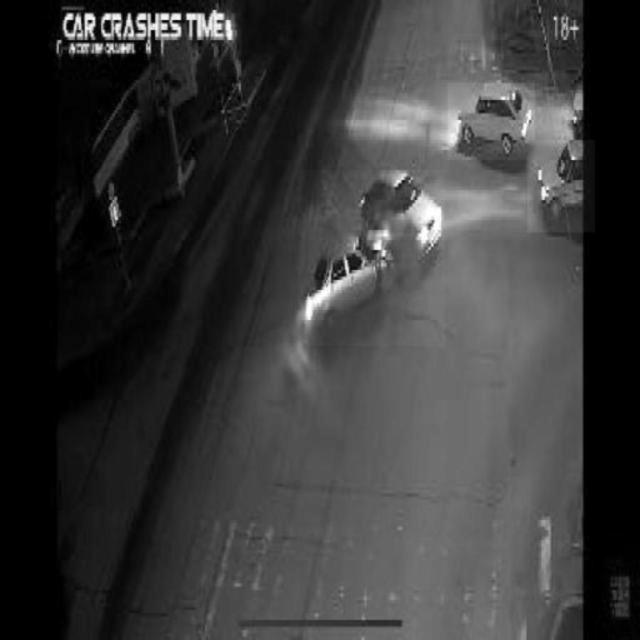accident: (299, 170, 445, 346)
vehicle: (448, 83, 536, 160), (528, 140, 595, 232)
